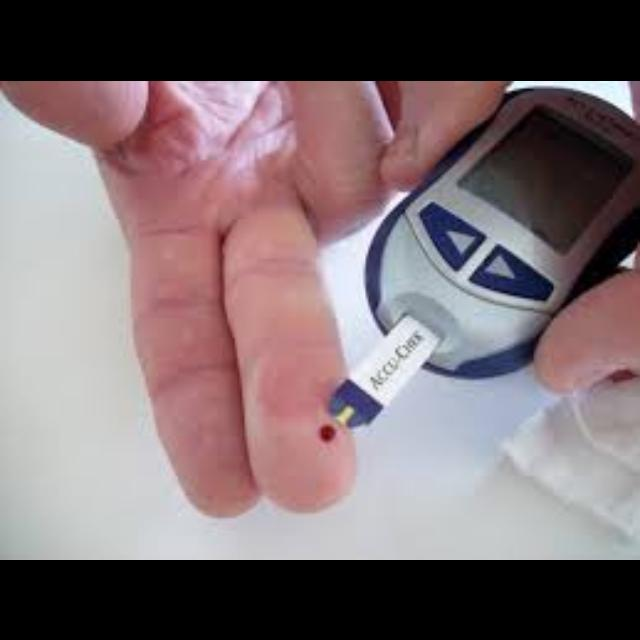Glucose-Meter: (330, 90, 640, 426)
